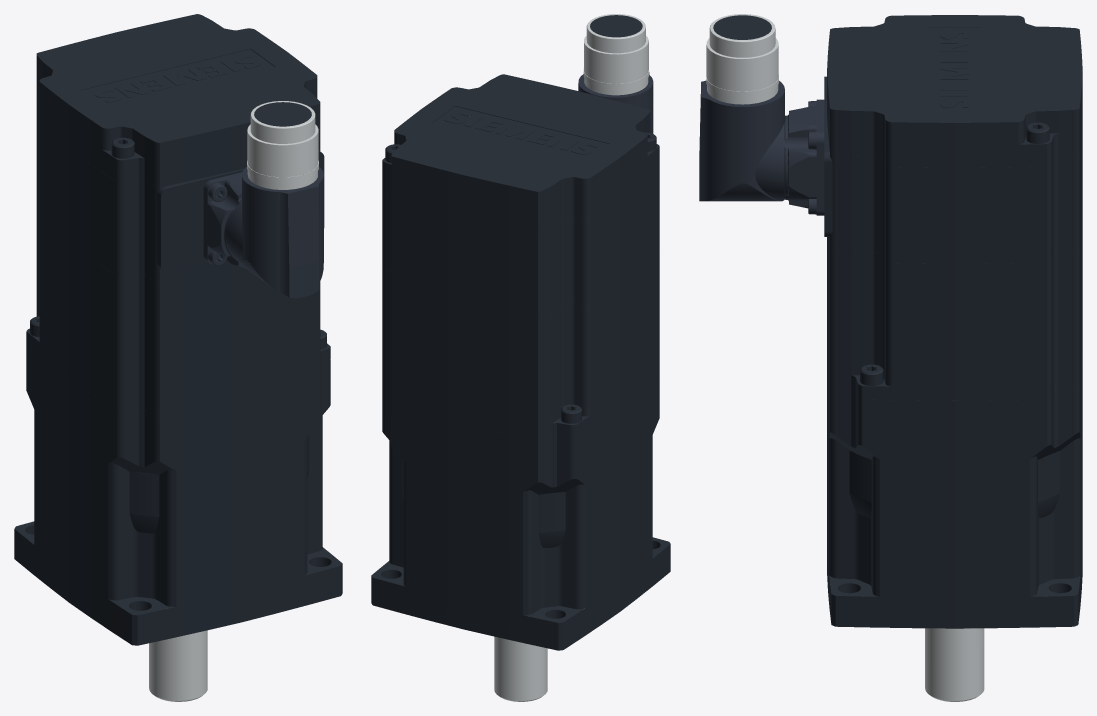
3 views of the same model, side by side, from view 1: azimuth 30°, elevation 25°; view 2: azimuth 150°, elevation 25°; view 3: azimuth 270°, elevation 25° (orthographic). The views are drawn at different scales.
Parts seen in each view (by area): view 1: 1FK21032AH100MA0_PART1, 1FK21032AH100MA0_PART3, 1FK21032AH100MA0_PART4, 1FK21032AH100MA0_PART7, 1FK21032AH100MA0_PART5, 1FK21032AH100MA0_PART2, 1FK21032AH100MA0_PART10, 1FK21032AH100MA0_PART6, 1FK21032AH100MA0_PART8; view 2: 1FK21032AH100MA0_PART1, 1FK21032AH100MA0_PART3, 1FK21032AH100MA0_PART4, 1FK21032AH100MA0_PART5, 1FK21032AH100MA0_PART7, 1FK21032AH100MA0_PART10, 1FK21032AH100MA0_PART8; view 3: 1FK21032AH100MA0_PART1, 1FK21032AH100MA0_PART4, 1FK21032AH100MA0_PART3, 1FK21032AH100MA0_PART5, 1FK21032AH100MA0_PART7, 1FK21032AH100MA0_PART10, 1FK21032AH100MA0_PART6, 1FK21032AH100MA0_PART8, 1FK21032AH100MA0_PART2.
Part boxes in pixels (x1,y1,x2,y2): 1FK21032AH100MA0_PART1: [14, 345, 342, 645]; 1FK21032AH100MA0_PART3: [26, 194, 330, 416]; 1FK21032AH100MA0_PART4: [36, 14, 320, 186]; 1FK21032AH100MA0_PART7: [226, 101, 323, 298]; 1FK21032AH100MA0_PART5: [36, 99, 320, 281]; 1FK21032AH100MA0_PART2: [157, 150, 324, 271]; 1FK21032AH100MA0_PART10: [149, 630, 207, 701]; 1FK21032AH100MA0_PART6: [203, 172, 244, 267]; 1FK21032AH100MA0_PART8: [254, 102, 311, 126]; 1FK21032AH100MA0_PART1: [371, 376, 670, 650]; 1FK21032AH100MA0_PART3: [382, 253, 659, 441]; 1FK21032AH100MA0_PART4: [382, 74, 659, 232]; 1FK21032AH100MA0_PART5: [382, 167, 659, 318]; 1FK21032AH100MA0_PART7: [578, 14, 653, 133]; 1FK21032AH100MA0_PART10: [494, 636, 547, 701]; 1FK21032AH100MA0_PART8: [590, 15, 642, 37]; 1FK21032AH100MA0_PART1: [827, 348, 1082, 628]; 1FK21032AH100MA0_PART4: [827, 15, 1082, 167]; 1FK21032AH100MA0_PART3: [827, 213, 1082, 400]; 1FK21032AH100MA0_PART5: [827, 117, 1082, 263]; 1FK21032AH100MA0_PART7: [699, 14, 785, 201]; 1FK21032AH100MA0_PART10: [925, 628, 984, 701]; 1FK21032AH100MA0_PART6: [786, 99, 824, 215]; 1FK21032AH100MA0_PART8: [713, 15, 771, 39]; 1FK21032AH100MA0_PART2: [824, 76, 832, 236].
Size of the model in its own units: 0.06 by 0.1717 by 0.09.
